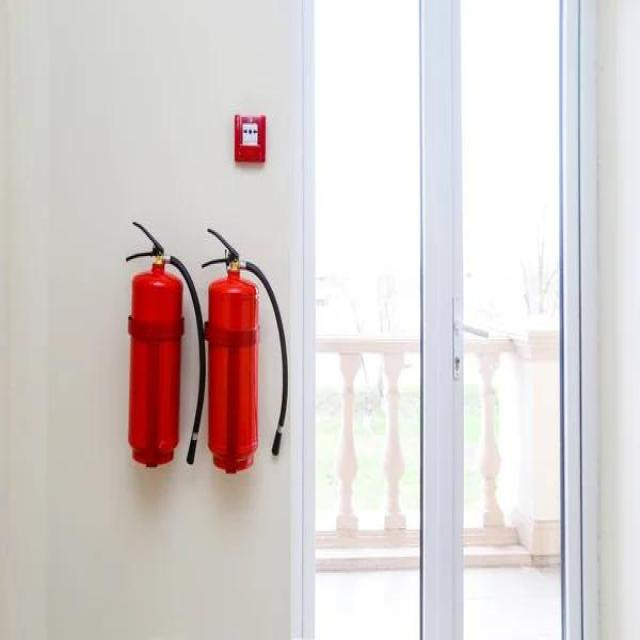fire_extinguisher: (197, 222, 290, 474), (122, 214, 207, 471)
